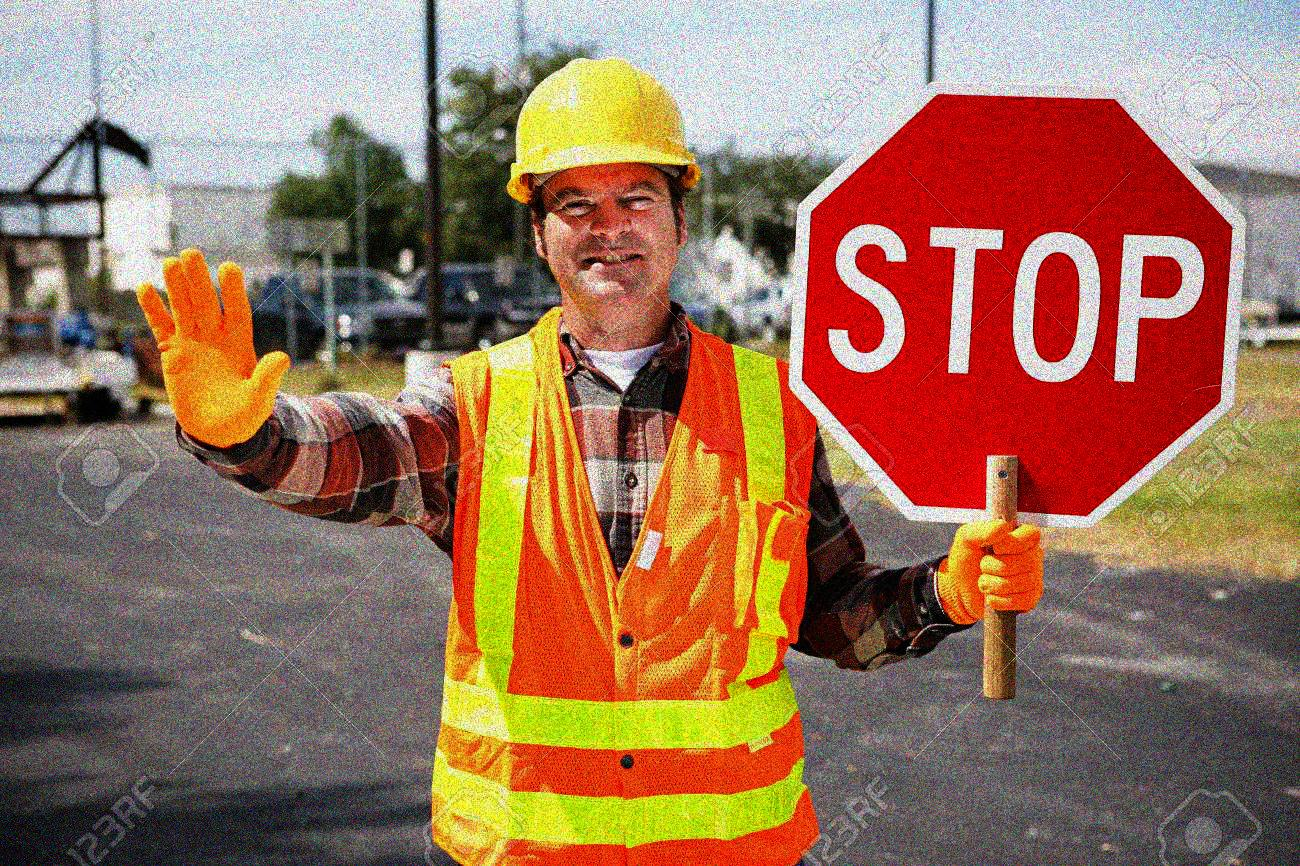helmet: (502, 55, 700, 308)
